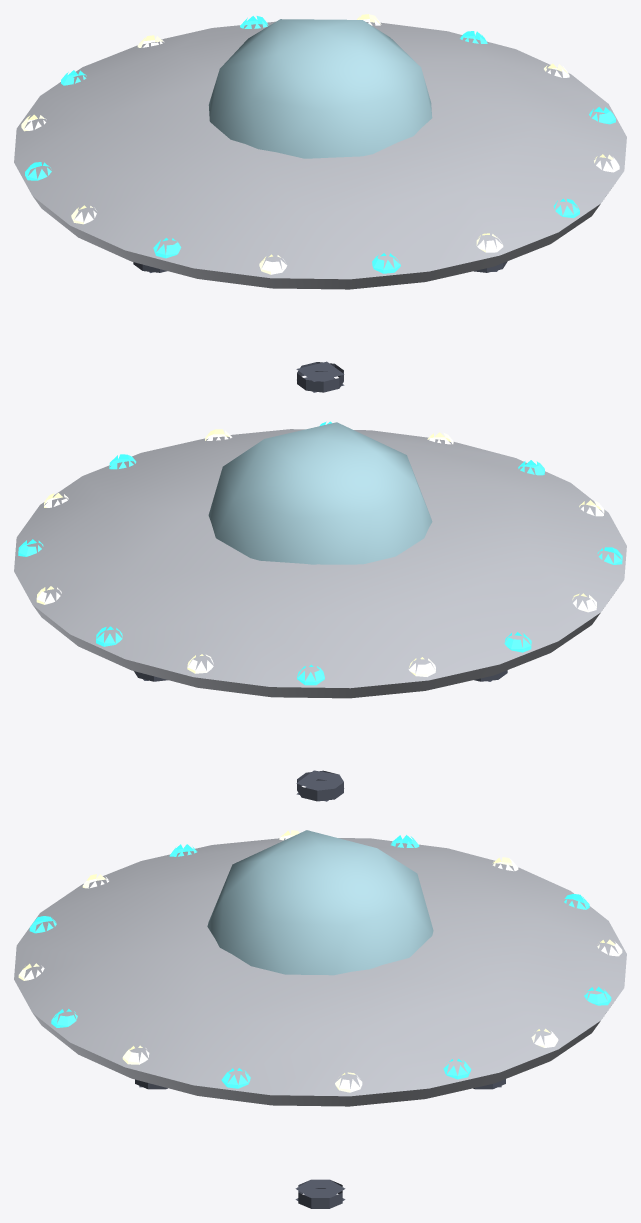
The model's file is RiftProbeDome.glb.
3 renders of one model, top to bottom at view 1: azimuth 30°, elevation 25°; view 2: azimuth 150°, elevation 25°; view 3: azimuth 270°, elevation 25°, orthographic.
Visible parts, largest first — view 1: Saucer hull, Saucer dome, Saucer lights second, Saucer lights, Saucer legs; view 2: Saucer hull, Saucer dome, Saucer lights second, Saucer lights, Saucer legs; view 3: Saucer hull, Saucer dome, Saucer lights second, Saucer lights, Saucer legs.
Part boxes in pixels (<box>): Saucer hull: <box>14,21,626,289</box>; Saucer dome: <box>208,19,432,158</box>; Saucer lights second: <box>25,16,615,273</box>; Saucer lights: <box>21,14,619,274</box>; Saucer legs: <box>133,261,507,392</box>; Saucer hull: <box>14,429,626,698</box>; Saucer dome: <box>208,422,432,564</box>; Saucer lights second: <box>18,421,622,685</box>; Saucer lights: <box>36,429,604,676</box>; Saucer legs: <box>134,670,507,801</box>; Saucer hull: <box>14,838,626,1106</box>; Saucer dome: <box>207,830,433,975</box>; Saucer lights second: <box>29,835,611,1088</box>; Saucer lights: <box>18,830,622,1092</box>; Saucer legs: <box>135,1079,505,1208</box>.
Bounding box in the file's own units: 3.09 × 1.52 × 3.09.
